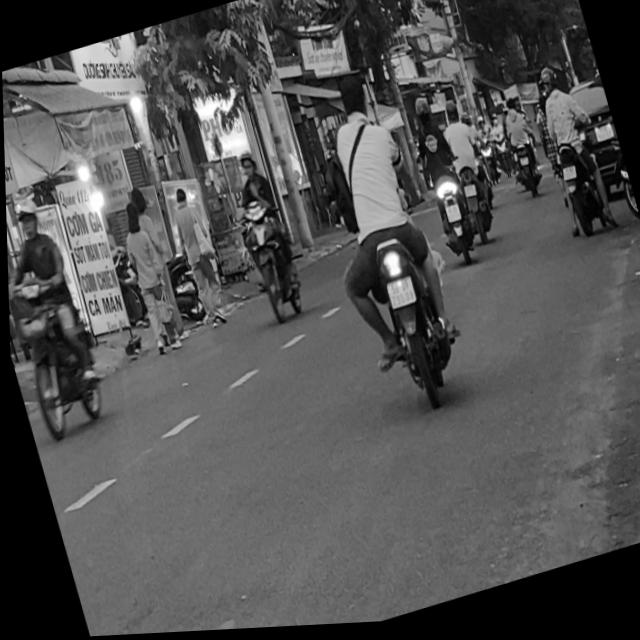helmet: (7, 192, 41, 239), (535, 68, 557, 99), (234, 150, 255, 181)
licenseplate: (286, 57, 474, 427), (4, 184, 112, 448), (214, 143, 309, 332), (521, 60, 616, 249)
motorcyclist: (330, 73, 370, 127)
nohelmet: (381, 278, 414, 312), (557, 168, 574, 186)
